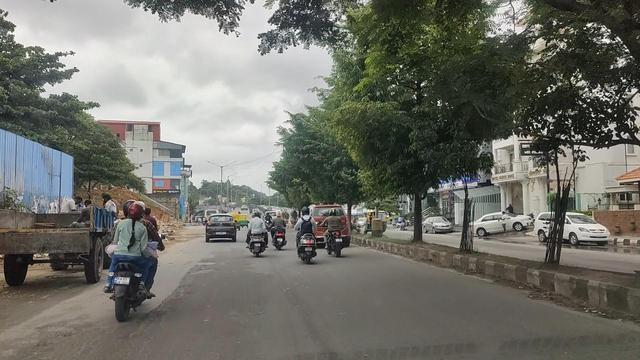LMV: (111, 201, 148, 313), (297, 206, 321, 265), (325, 201, 347, 257), (206, 209, 232, 244), (247, 208, 264, 252), (274, 207, 287, 252)
RoadDamages: (9, 316, 81, 360), (122, 313, 162, 353), (181, 252, 225, 276)
